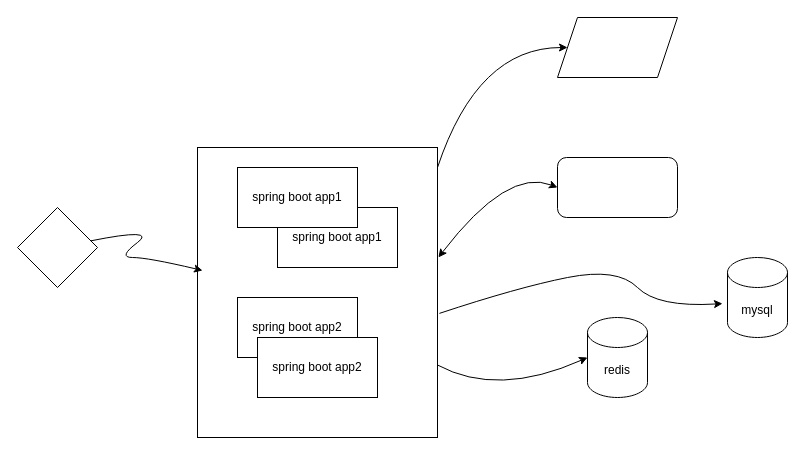
Image size: 805x455. Some labels were removed from this diagram. Each missing label, with the centre of its shape:
nacos: point 617,187
rabbitmq: point 617,47
spring cloud gateway: point 57,247
